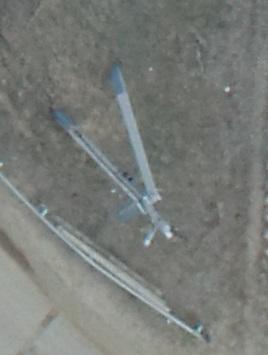opora: (47, 61, 181, 247)
